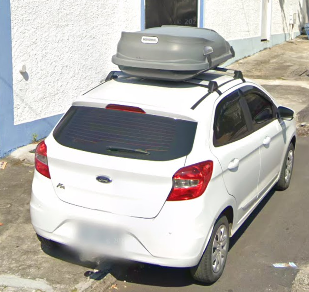car: (30, 75, 297, 284)
